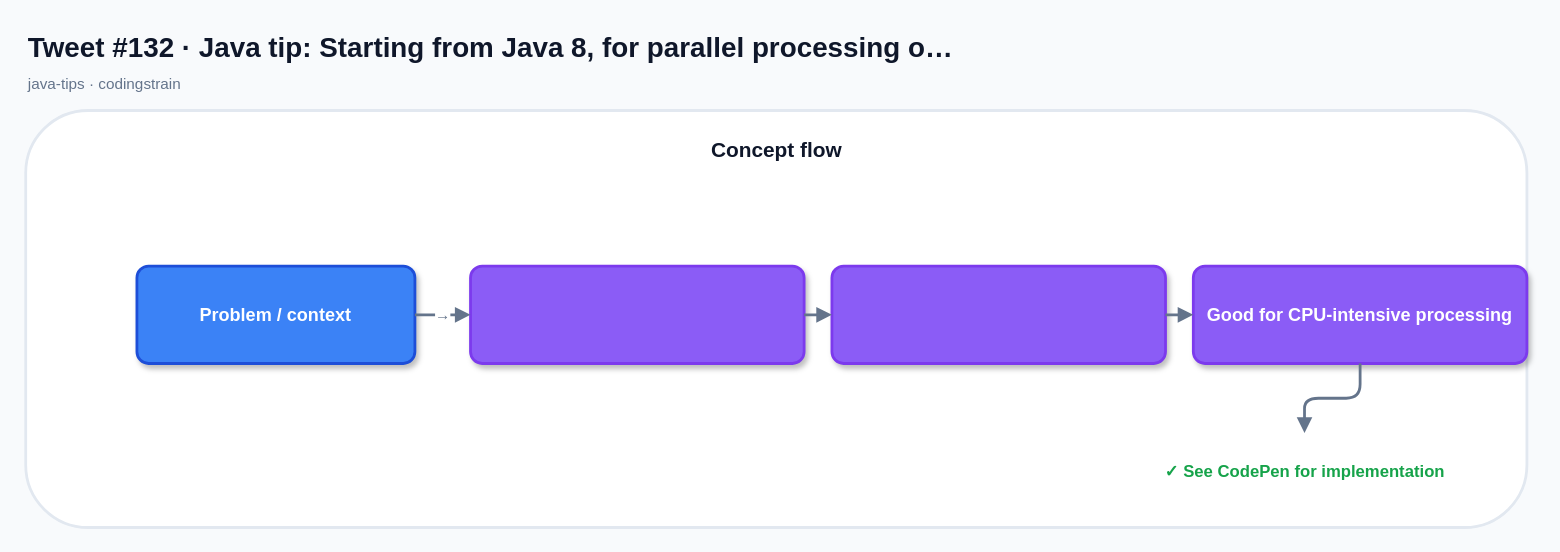
Image size: 1560x552. Some labels were removed from this diagram. The centre of each missing label's shape, as x and y in pixels:
"Uses multiple threads" belongs at point (999, 316).
"💡Java tip: Starting from Java 8, for parallel processing of collectio" belongs at point (638, 316).
